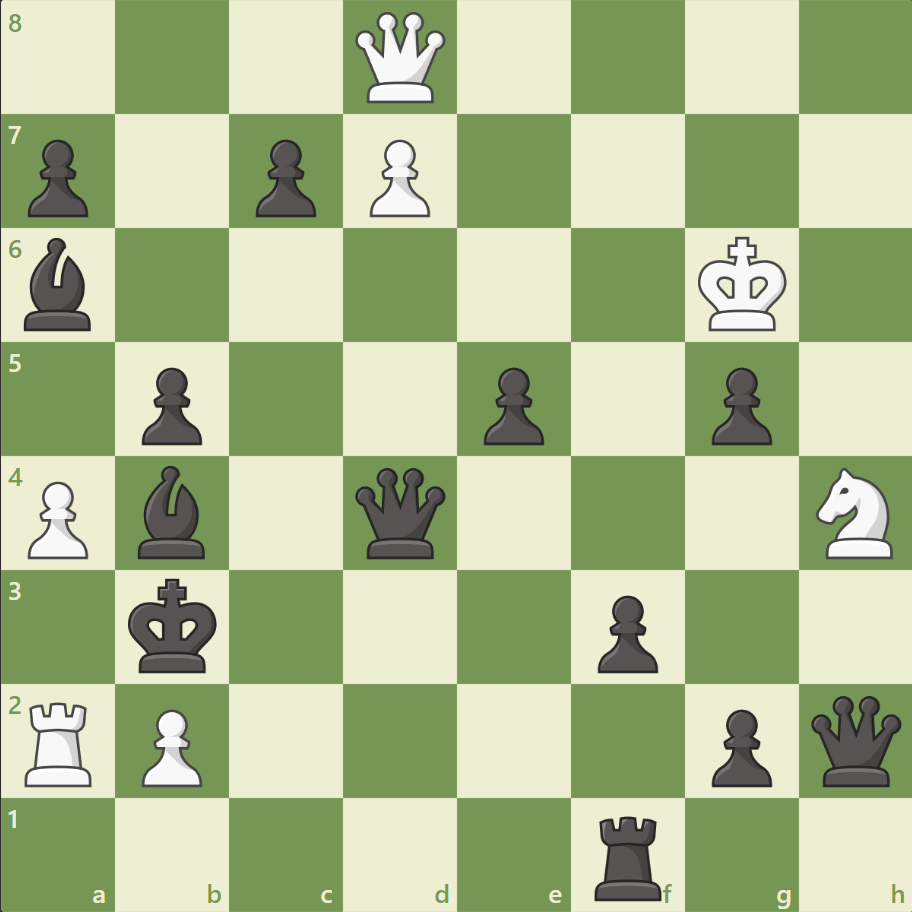K: (692, 231, 792, 339)
N: (806, 461, 903, 564)
P: (20, 473, 95, 564), (133, 700, 208, 791), (361, 132, 435, 223)
Q: (351, 9, 450, 108)
R: (19, 693, 102, 790)
b: (17, 233, 101, 336), (131, 460, 215, 563)
k: (124, 571, 224, 679)
p: (20, 132, 95, 223), (247, 132, 322, 223), (133, 359, 208, 450), (474, 359, 549, 450), (701, 359, 776, 450), (701, 700, 776, 791), (588, 586, 662, 677)
q: (351, 463, 450, 562), (805, 690, 904, 789)
r: (587, 806, 670, 904)
